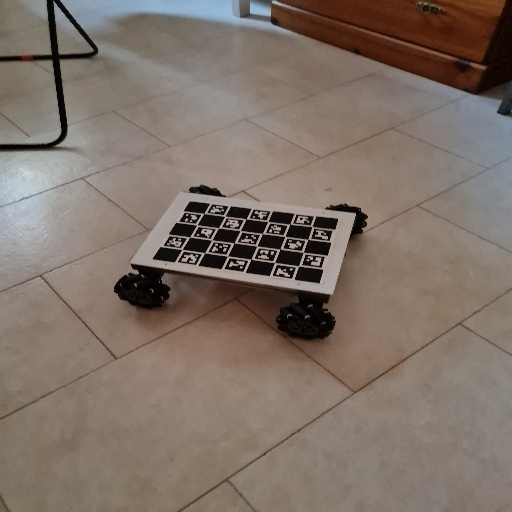Omniwheel: (114, 183, 366, 340)
